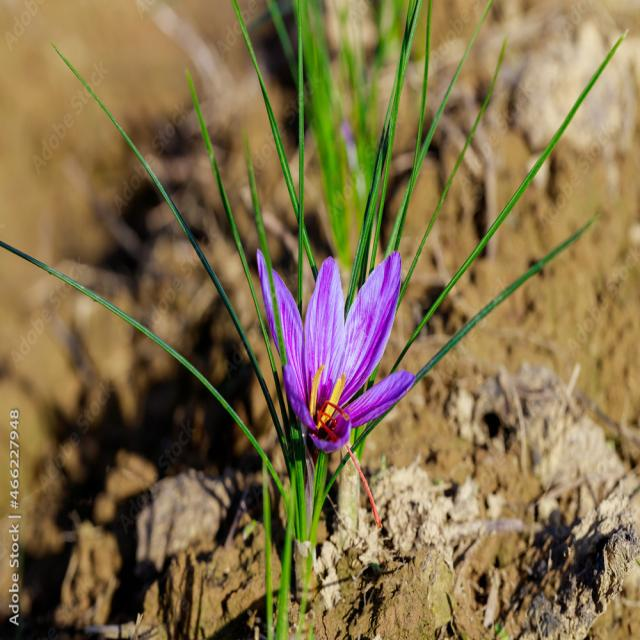saffron open: (257, 250, 415, 454)
